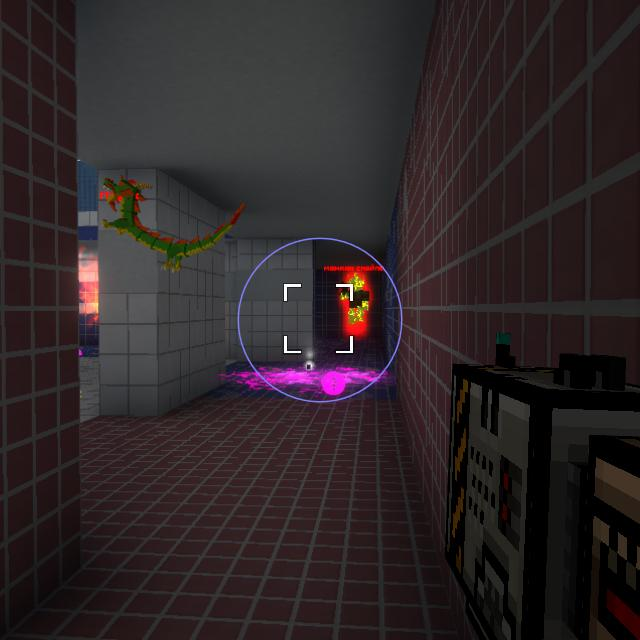Enemy: (341, 273, 370, 324)
